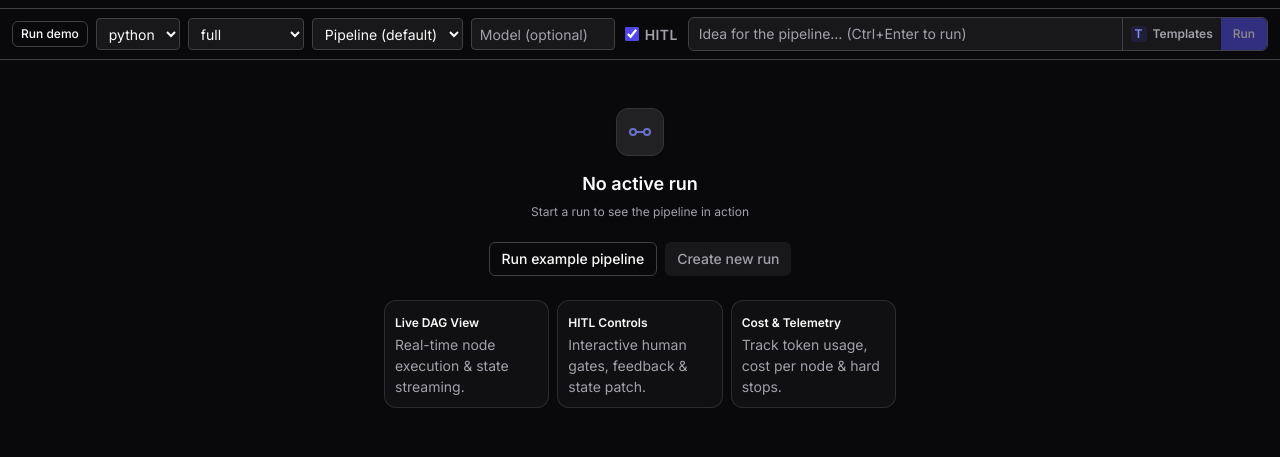
Test case: RunsWorkspace › empty state: quick-start cards run example pipeline and focus the idea field
"Create new run" foca o campo de ideia do NewRunForm (id fixo).
Click the button "Create new run" at x=728, y=259, box [665,242,792,276]
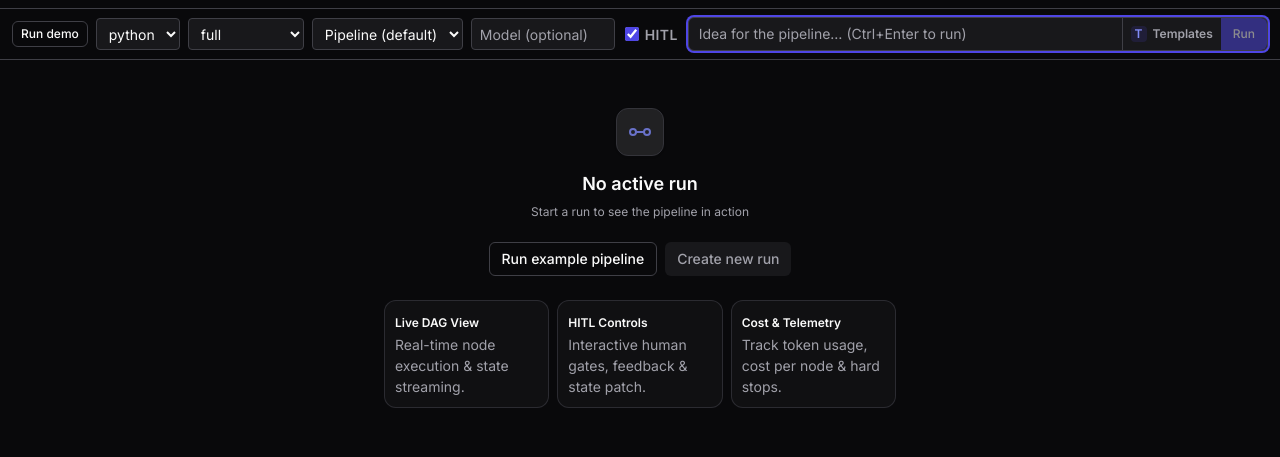
"Run example pipeline" dispara a demo (addRun síncrono → aba nova).
Click the button "Run example pipeline" at x=573, y=259, box [488,242,657,276]
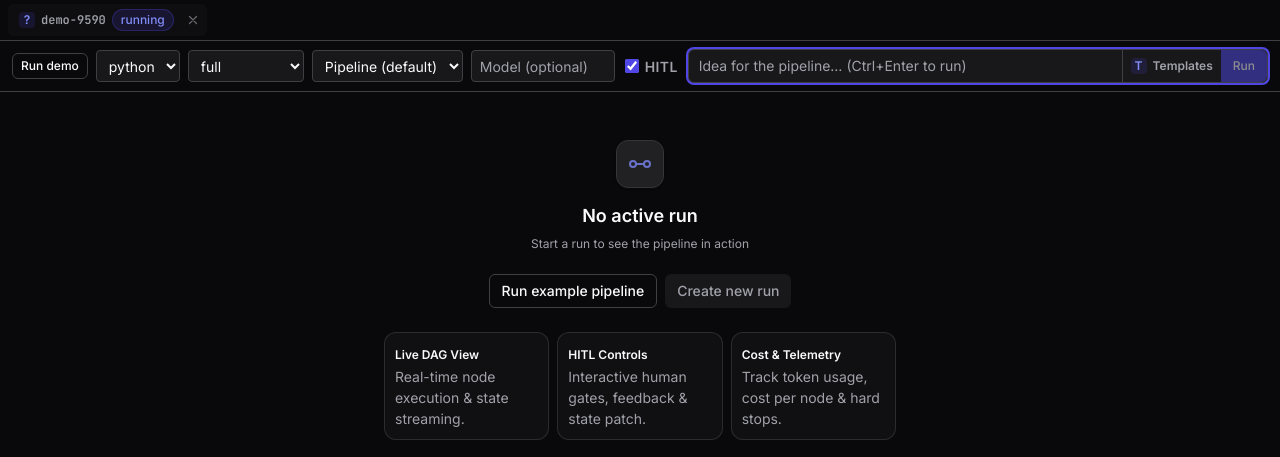
Result: the number of tabs is 1 at [9,5,184,35]
